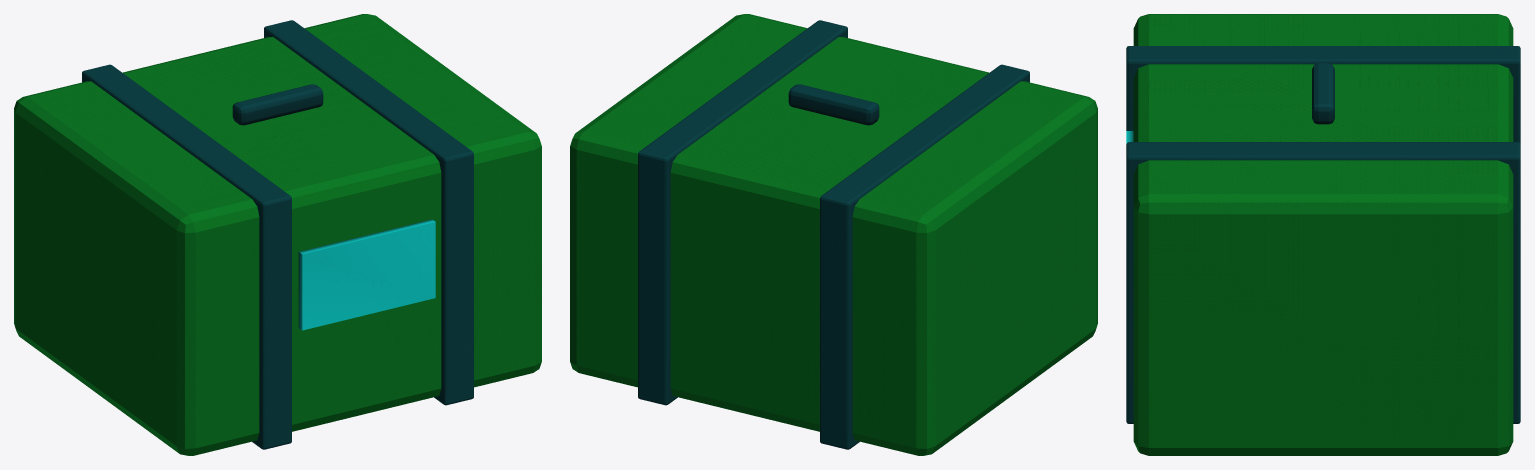
File: kit.glb
3 renders of one model, left to right at view 1: azimuth 30°, elevation 25°; view 2: azimuth 150°, elevation 25°; view 3: azimuth 270°, elevation 25°, orthographic. The views are drawn at different scales.
Parts seen in each view (by area): view 1: kit; view 2: kit; view 3: kit.
Boxes of the visible parts, left/top/right/bottom form: kit: left=14, top=14, right=541, bottom=455; kit: left=570, top=14, right=1097, bottom=455; kit: left=1126, top=14, right=1520, bottom=455.
Bounding box in the file's own units: 0.6 × 0.415 × 0.52.
1 material, 1 textured.
